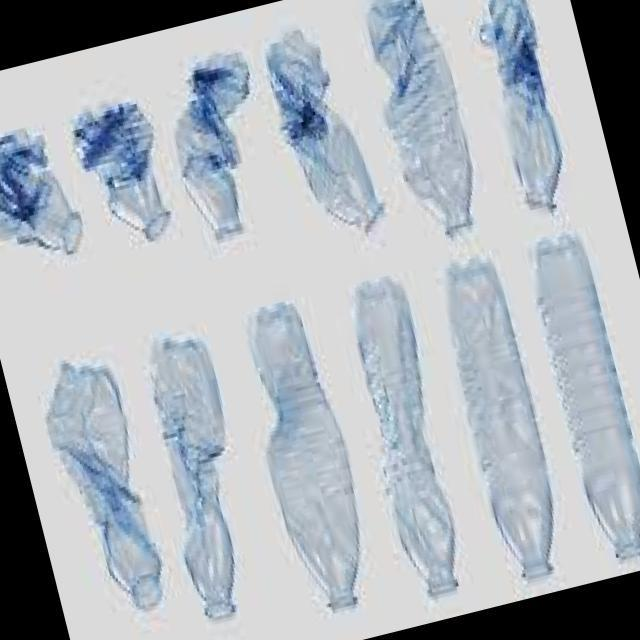defected: (218, 292, 392, 629), (325, 268, 486, 625), (125, 318, 278, 635), (27, 346, 186, 633), (344, 0, 500, 256), (250, 12, 402, 266), (145, 25, 291, 267), (451, 0, 591, 234), (60, 66, 188, 266), (0, 107, 91, 270)
good: (416, 252, 582, 597), (508, 212, 640, 576)
